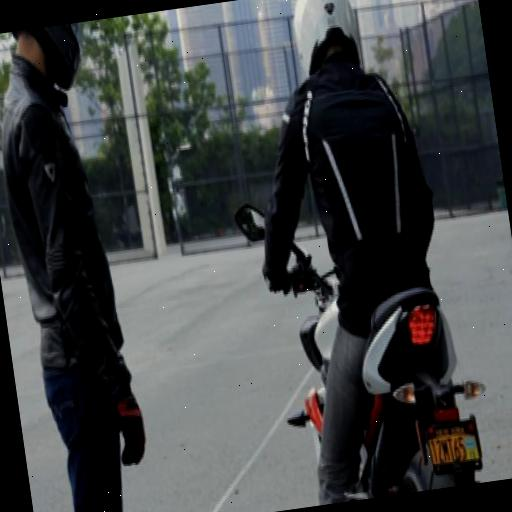no helmet: (198, 0, 512, 505)
